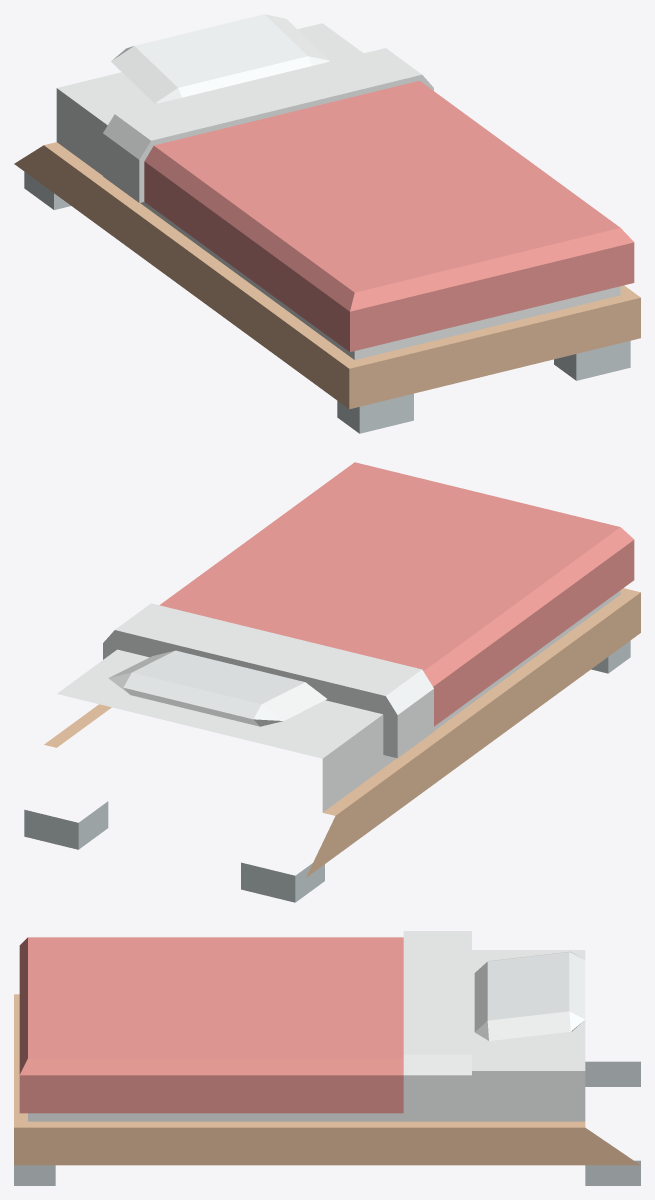
The model's file is bedFrameBare.glb.
3 renders of one model, top to bottom at view 1: azimuth 30°, elevation 25°; view 2: azimuth 150°, elevation 25°; view 3: azimuth 270°, elevation 25°, orthographic. The views are drawn at different scales.
Parts seen in each view (by area): view 1: cover, bedSingle(Clone), pillow; view 2: cover, bedSingle(Clone), pillow; view 3: cover, bedSingle(Clone), pillow.
Part boxes in pixels (x1=…): cover: x1=103, y1=48, x2=634, y2=351; bedSingle(Clone): x1=14, y1=23, x2=640, y2=433; pillow: x1=111, y1=14, x2=329, y2=103; cover: x1=103, y1=462, x2=634, y2=758; bedSingle(Clone): x1=24, y1=588, x2=640, y2=902; pillow: x1=108, y1=650, x2=326, y2=726; cover: x1=19, y1=931, x2=471, y2=1115; bedSingle(Clone): x1=14, y1=950, x2=640, y2=1185; pillow: x1=474, y1=951, x2=585, y2=1040.
Size of the model in its own units: 0.571 by 0.2832 by 1.12.
